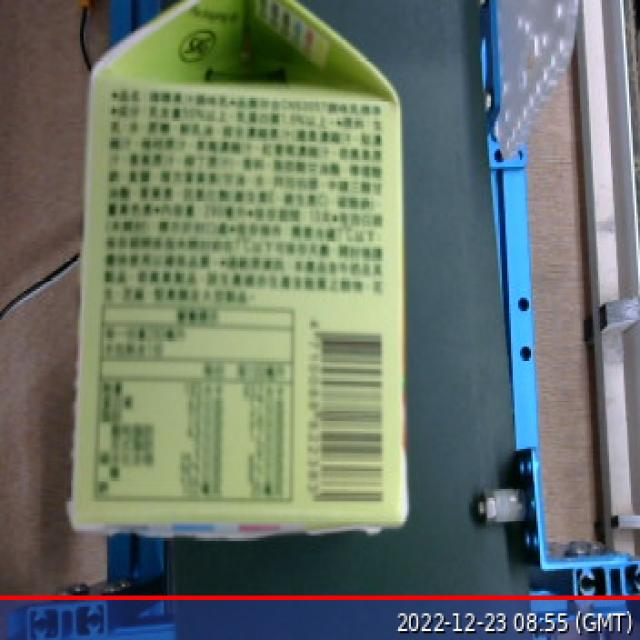non_white_jug: (57, 0, 423, 544)
